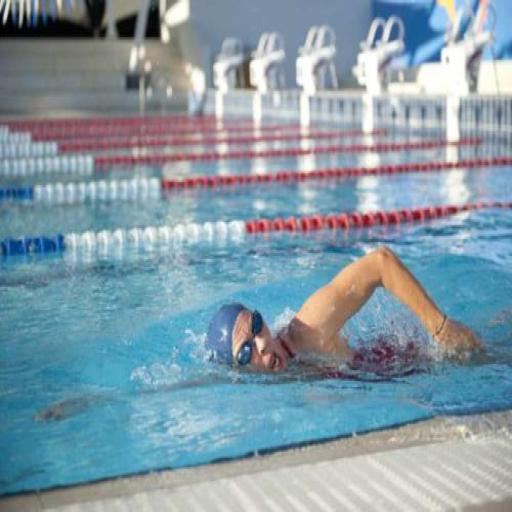swimming: (203, 242, 487, 384)
